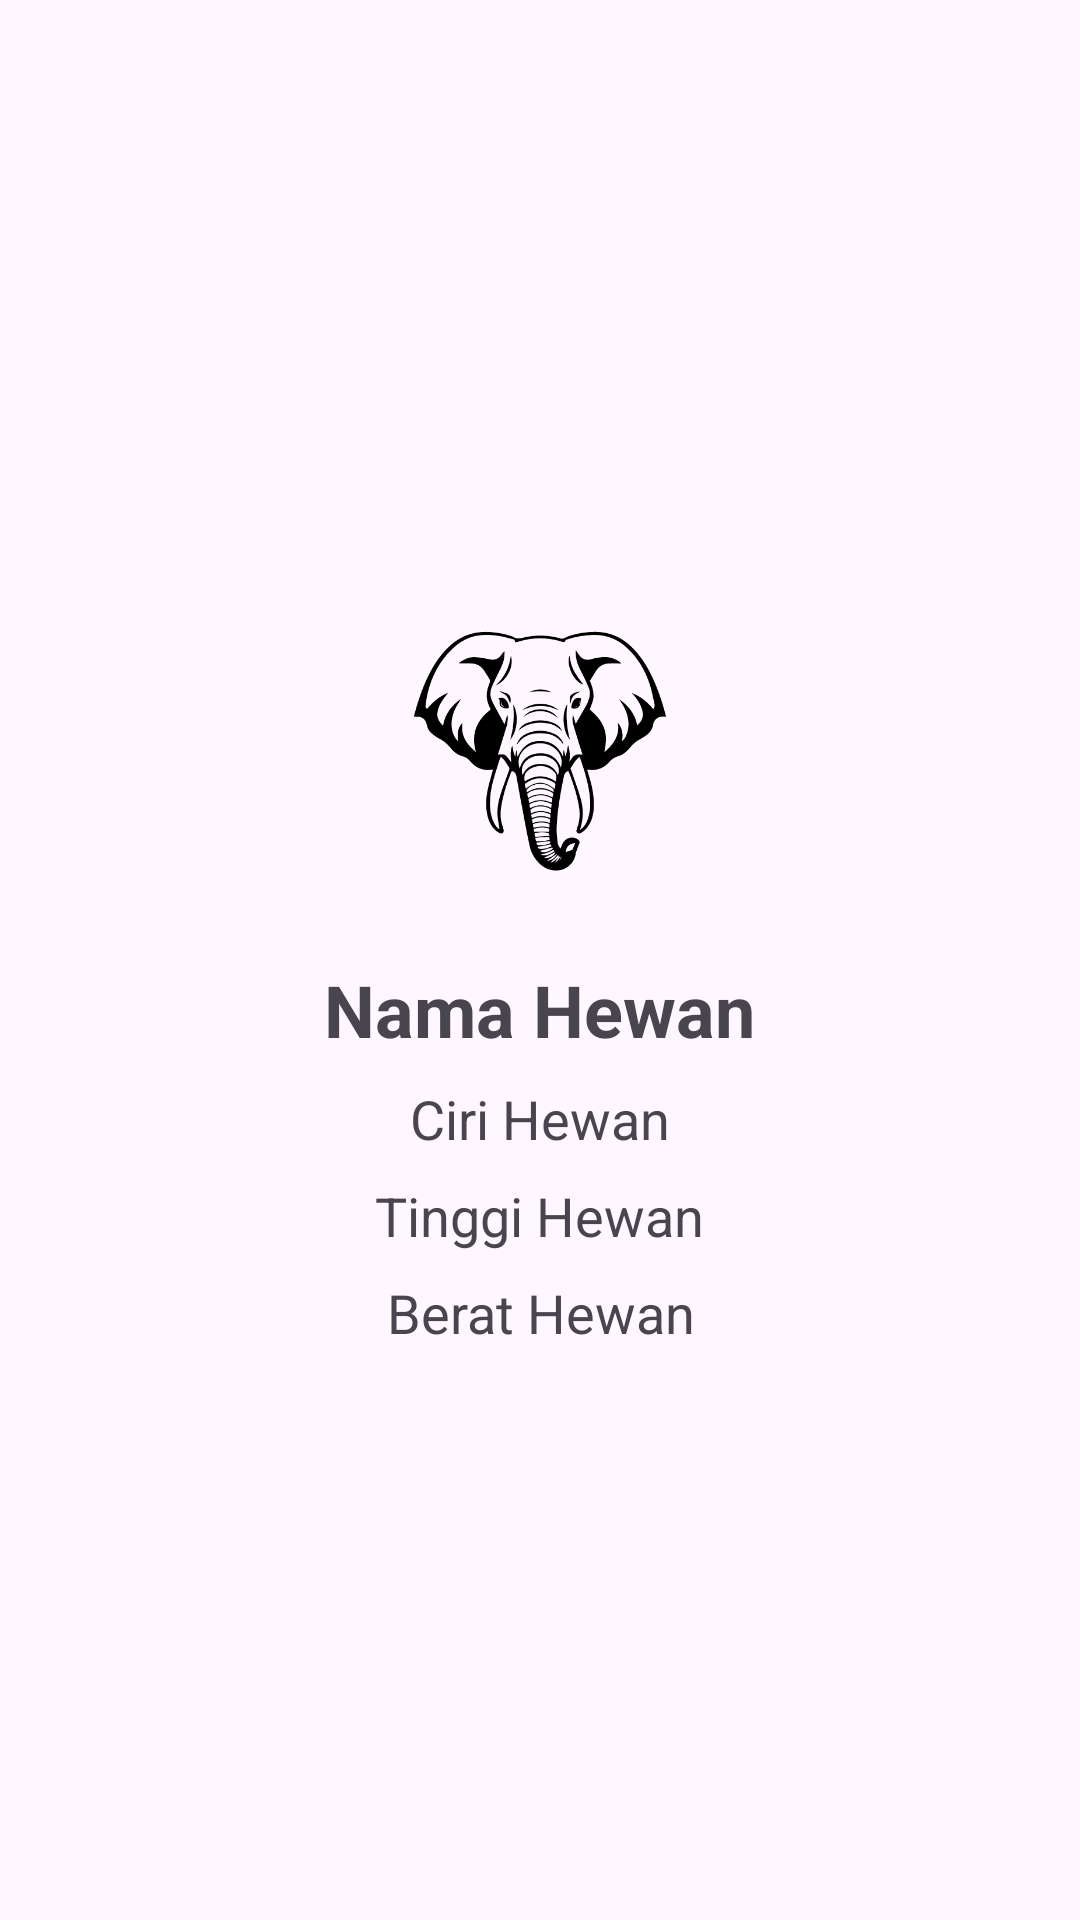

Where icons sit on this 1080x1920 app screen, as box=[x1, y1, x2, y2]:
Gambar Hewan: box=[414, 631, 666, 871]
